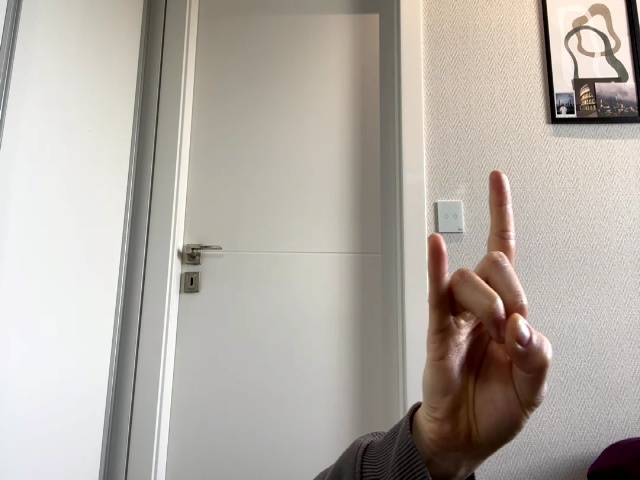Y: (421, 170, 553, 447)
